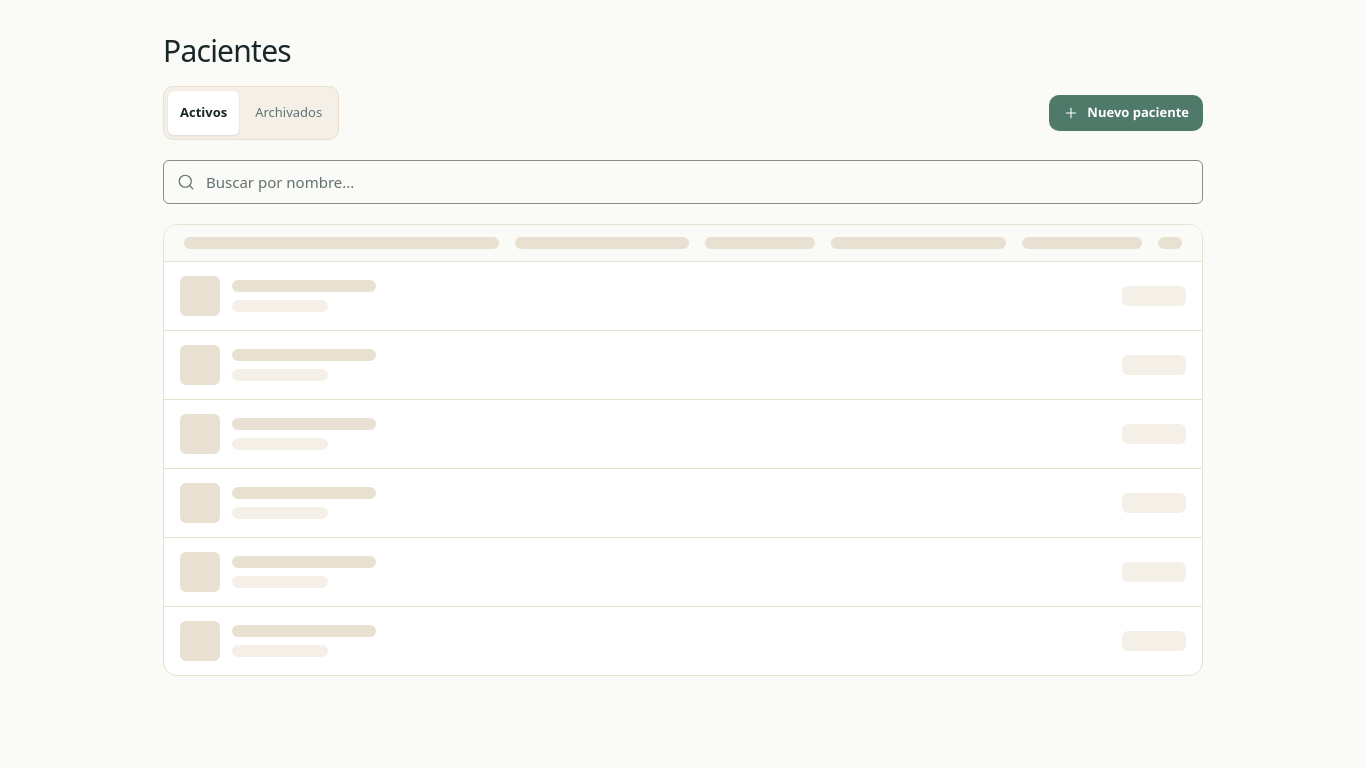
los avisos distinguen un rechazo de una operación confirmada › reactivar desde la lista: éxito=true
This screenshot has width=1366, height=768.
Step 1. Click the tab "Archivados" → click(289, 112), box [243, 90, 334, 134]
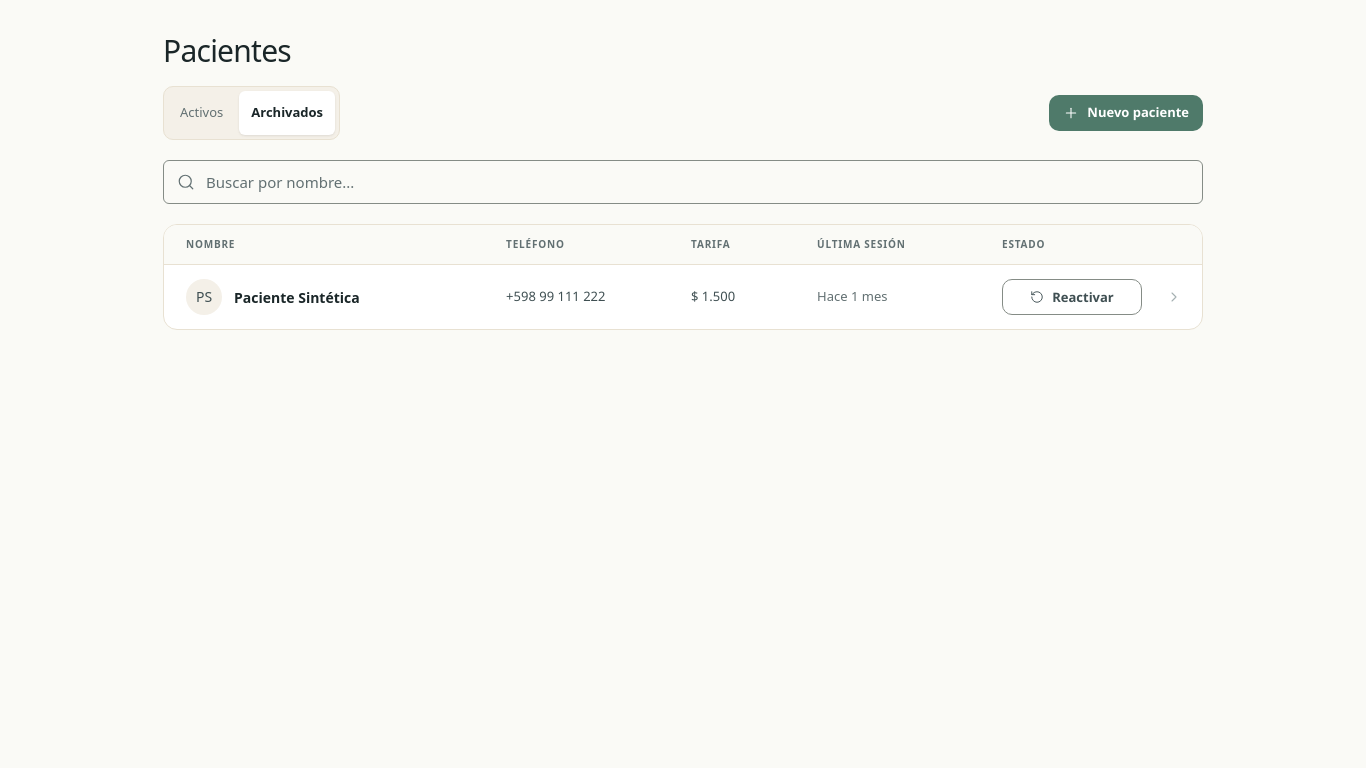
Step 2. Click the button "Reactivar" → click(1072, 297), box [1002, 279, 1142, 315]
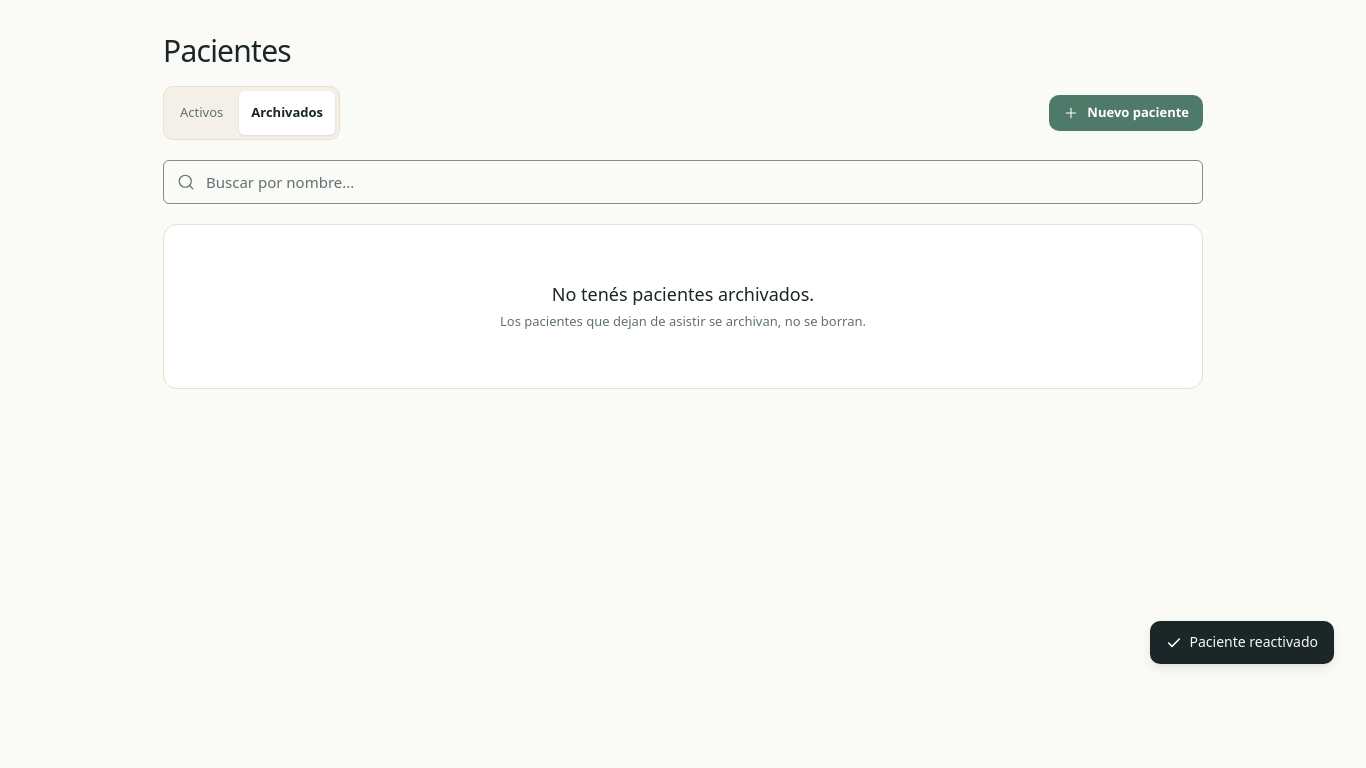
Check: the message "Paciente reactivado" is shown, box [1150, 621, 1334, 664]
